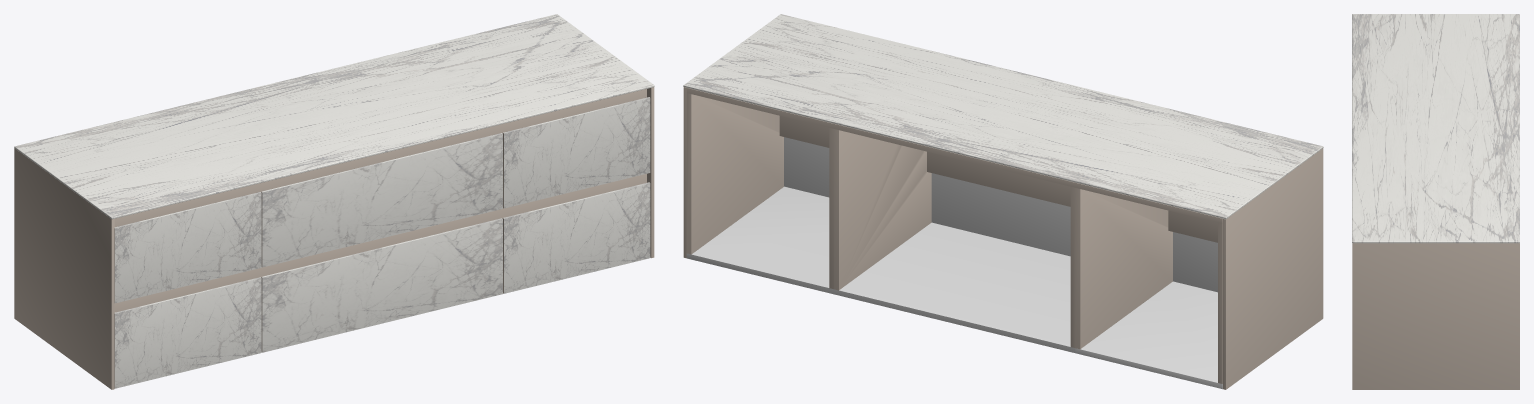
The picture shows the model from 3 angles, left to right: view 1: azimuth 30°, elevation 25°; view 2: azimuth 150°, elevation 25°; view 3: azimuth 270°, elevation 25°; orthographic projection. The views are drawn at different scales.
Visible parts, largest first — view 1: EL09; view 2: EL09; view 3: EL09.
Part boxes in pixels (left/top/right/bottom): EL09: left=14, top=14, right=654, bottom=389; EL09: left=683, top=14, right=1323, bottom=389; EL09: left=1352, top=14, right=1519, bottom=389.
Size of the model in its own units: 1.8 by 0.5461 by 0.5601.
4 materials, 1 textured.
